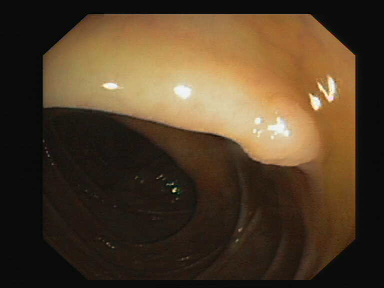polyp: (223, 63, 350, 213)
